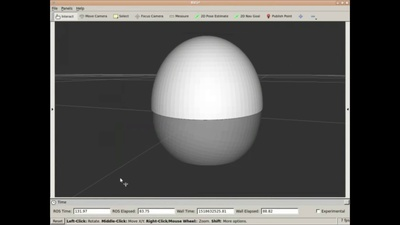mira_robot: (151, 36, 263, 166)
